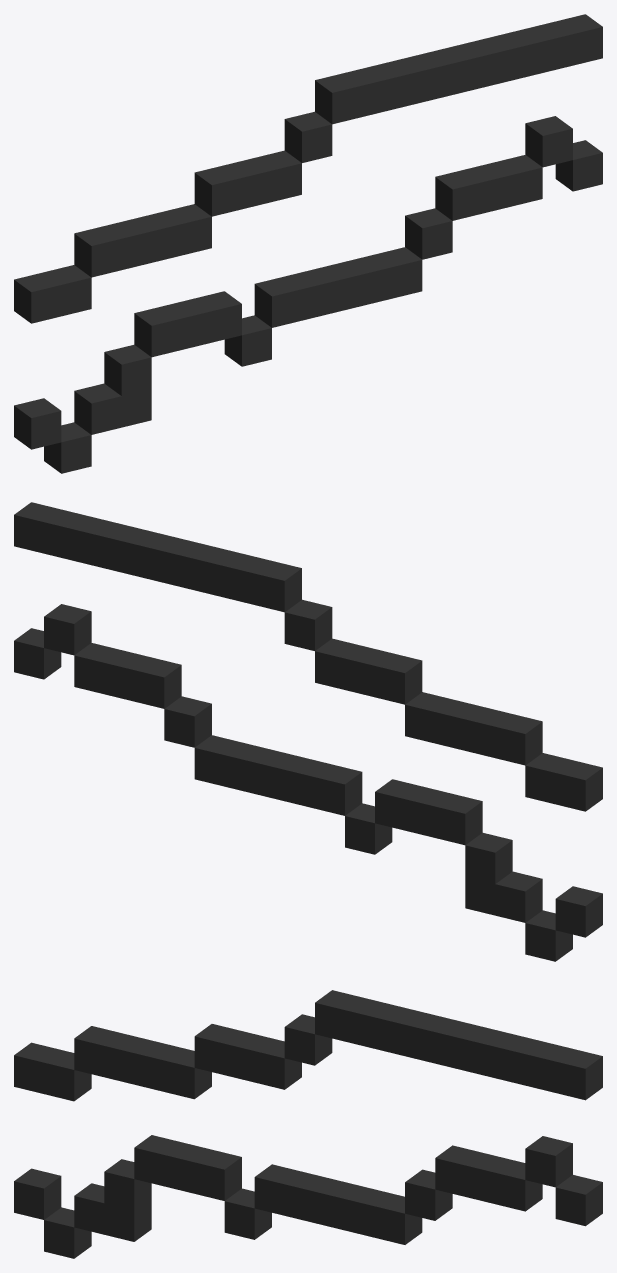
Rendered from wires.obj.
3 views of the same model, one above another, from view 1: azimuth 30°, elevation 25°; view 2: azimuth 150°, elevation 25°; view 3: azimuth 330°, elevation 25° (orthographic).
Bounding box in the file's own units: 1.9 × 1 × 0.1.
Materials: 1 (1 with a texture image).
